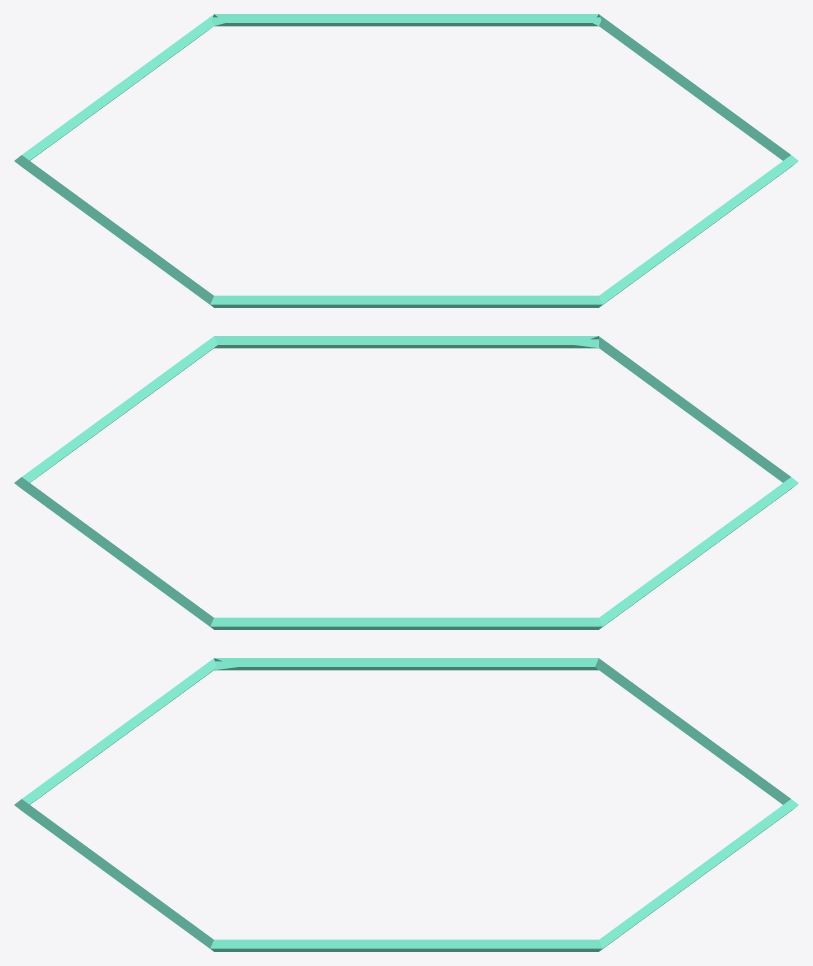
3 renders of one model, top to bottom at view 1: azimuth 30°, elevation 25°; view 2: azimuth 150°, elevation 25°; view 3: azimuth 270°, elevation 25°, orthographic.
Visible parts, largest first — view 1: grass; view 2: grass; view 3: grass.
Boxes of the visible parts, x1,y1,x2,y2 form: grass: [14, 14, 798, 307]; grass: [14, 336, 798, 629]; grass: [14, 658, 798, 951].
Size of the model in its own units: 118 by 2 by 102.
